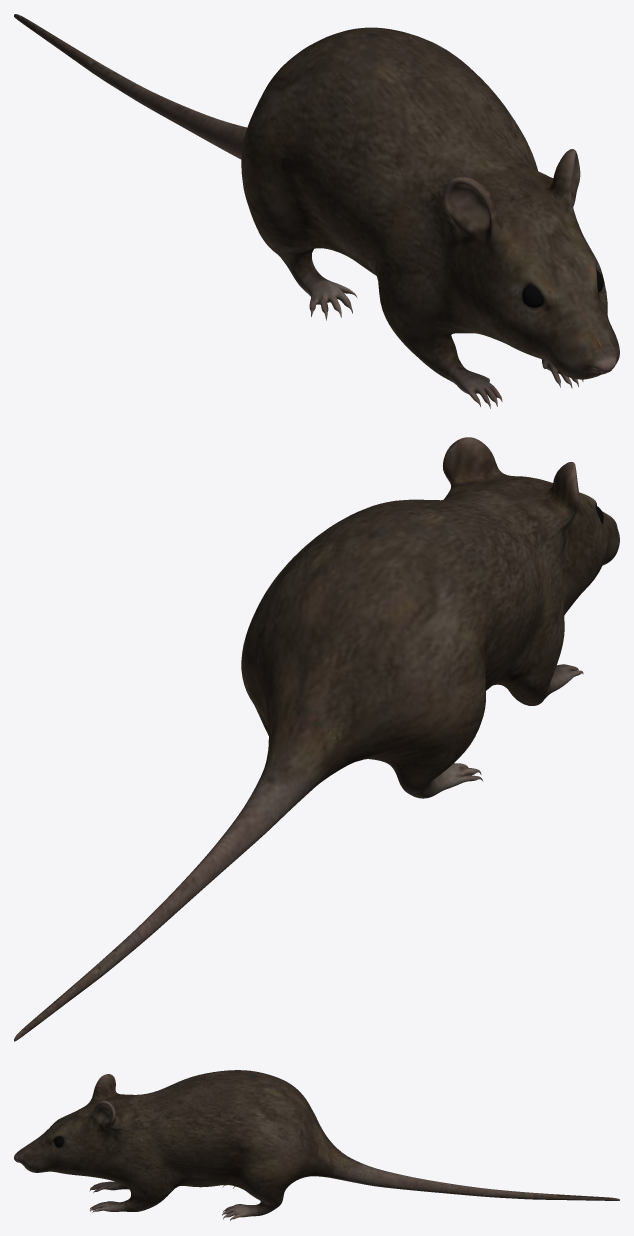
3 renders of one model, top to bottom at view 1: azimuth 30°, elevation 25°; view 2: azimuth 150°, elevation 25°; view 3: azimuth 270°, elevation 25°, orthographic. The views are drawn at different scales.
Visible parts, largest first — view 1: street_rat; view 2: street_rat; view 3: street_rat.
Part boxes in pixels (x1,y1,x2,y2): street_rat: (14,14,619,408); street_rat: (14,437,619,1041); street_rat: (14,1070,619,1220).
Bounding box in the file's own units: 0.032 × 0.0339 × 0.1483.
1 material, 1 textured.
